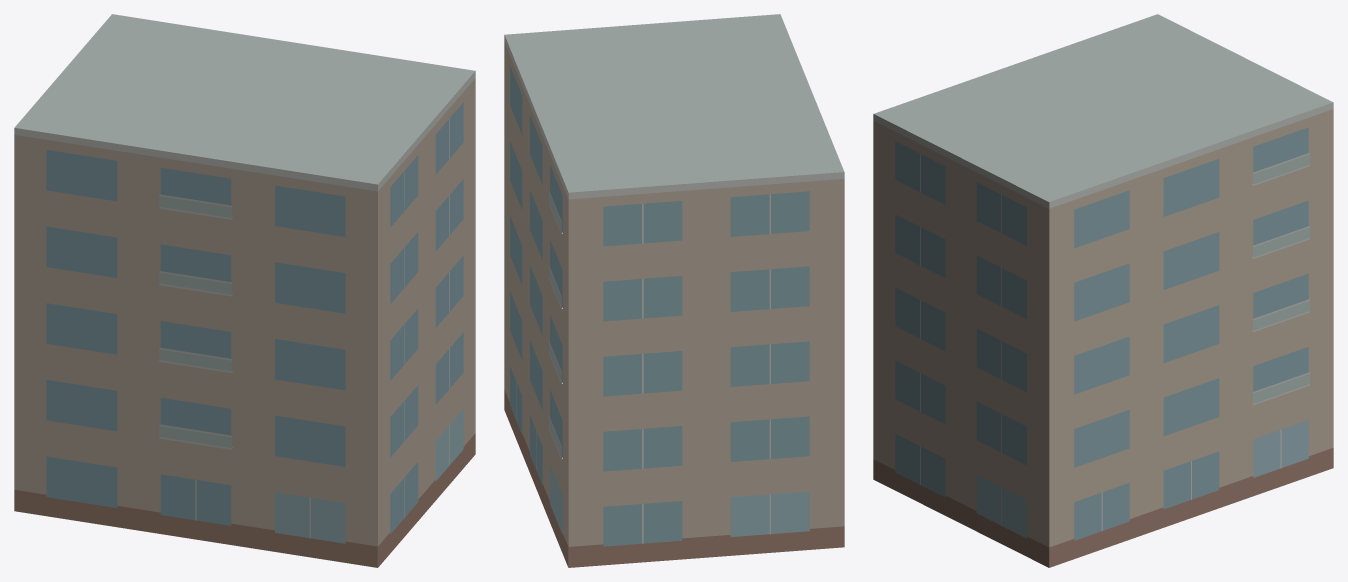
File: survey-upis-32954549.glb
3 renders of one model, left to right at view 1: azimuth 30°, elevation 25°; view 2: azimuth 150°, elevation 25°; view 3: azimuth 270°, elevation 25°, orthographic. The views are drawn at different scales.
Parts seen in each view (by area): view 1: survey-upis-32954549.tmp; view 2: survey-upis-32954549.tmp; view 3: survey-upis-32954549.tmp.
Boxes of the visible parts, x1,y1,x2,y2 form: survey-upis-32954549.tmp: [14, 14, 475, 567]; survey-upis-32954549.tmp: [504, 14, 844, 567]; survey-upis-32954549.tmp: [873, 14, 1333, 567].
Bounding box in the file's own units: 14.86 × 13.45 × 15.34.
